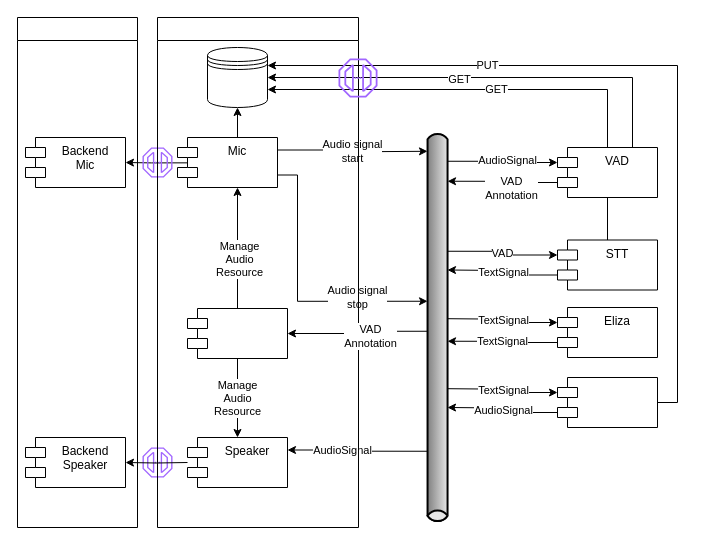
This 703x545 diagram has some shape labels left out. The shapes that lost their labels are listed below. From the top down, each one's box as (x1, y1, x2, y2) in pixels, then its label:
(16, 16, 138, 528): Backend Server
(156, 16, 358, 528): Backend Container
(186, 308, 288, 358): Audio Controller
(556, 376, 658, 428): TTS
